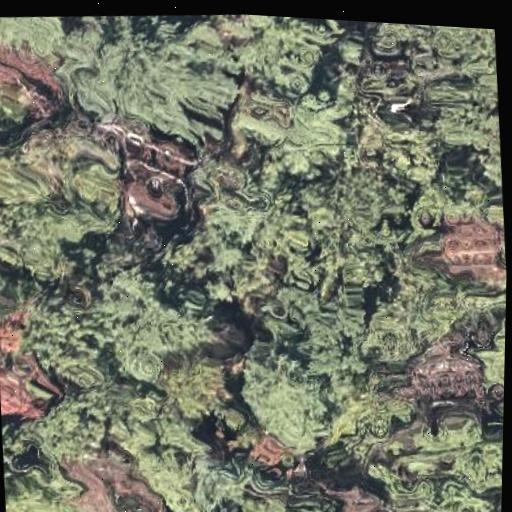tree-top: (64, 4, 248, 158), (0, 123, 122, 272), (197, 138, 322, 278), (109, 387, 241, 512), (92, 262, 215, 377), (302, 155, 413, 259), (202, 12, 340, 95), (375, 423, 503, 512), (235, 348, 334, 459), (237, 81, 347, 178), (365, 254, 467, 351), (19, 289, 106, 391), (282, 270, 377, 360), (160, 344, 241, 435), (402, 24, 498, 94), (29, 389, 115, 463), (373, 111, 448, 193), (3, 455, 86, 512), (380, 23, 496, 61), (0, 12, 76, 57), (470, 303, 506, 394)
